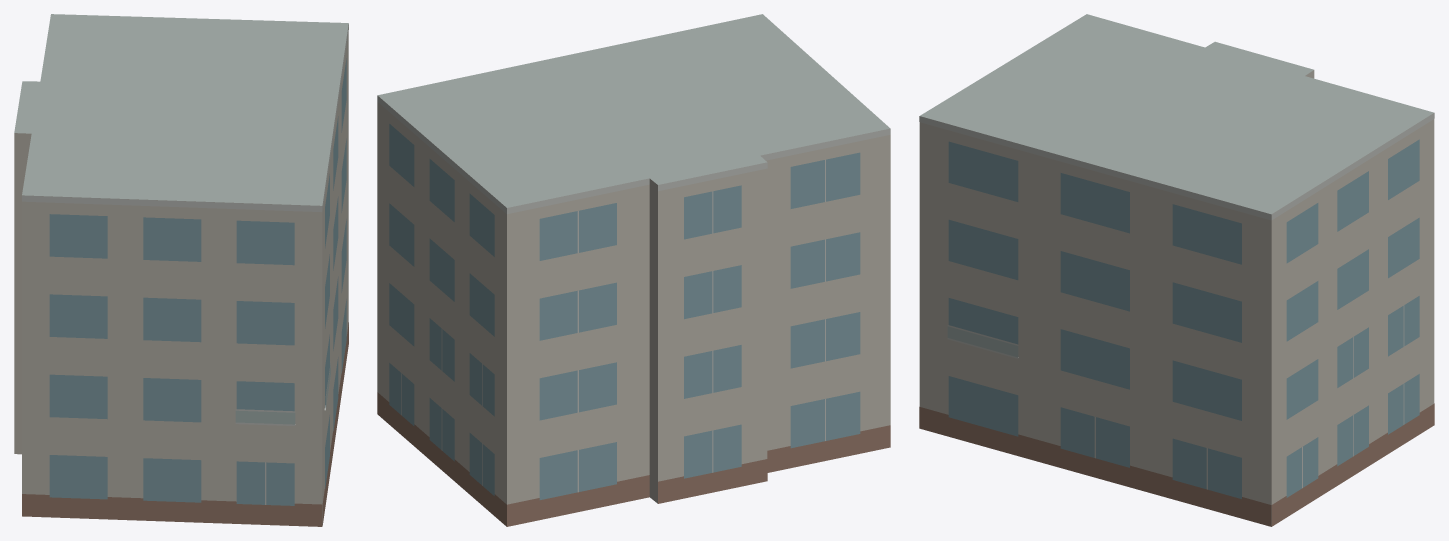
The model's file is survey-upis-32718561.glb.
The picture shows the model from 3 angles, left to right: view 1: azimuth 30°, elevation 25°; view 2: azimuth 150°, elevation 25°; view 3: azimuth 270°, elevation 25°; orthographic projection. The views are drawn at different scales.
Parts seen in each view (by area): view 1: survey-upis-32718561.tmp; view 2: survey-upis-32718561.tmp; view 3: survey-upis-32718561.tmp.
Boxes of the visible parts, <box> form: survey-upis-32718561.tmp: <box>14,14,348,526</box>; survey-upis-32718561.tmp: <box>377,14,890,526</box>; survey-upis-32718561.tmp: <box>919,14,1434,526</box>.
Size of the model in its own units: 17.11 by 12.44 by 18.59.
